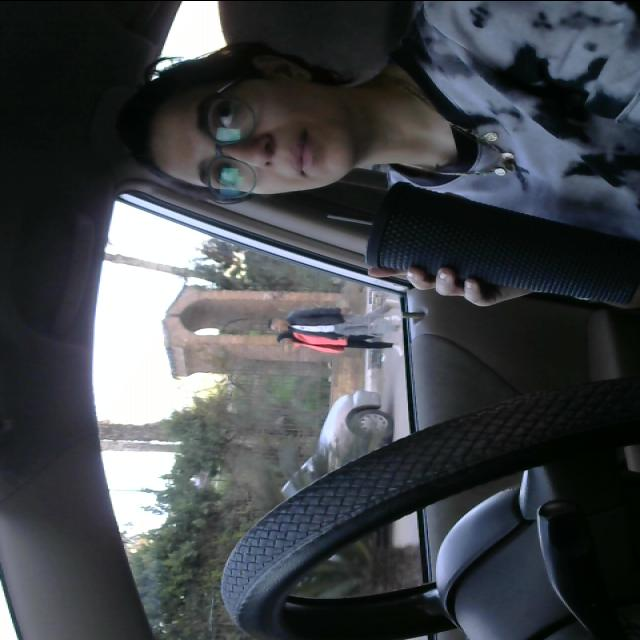drinking: (314, 175, 640, 316)
